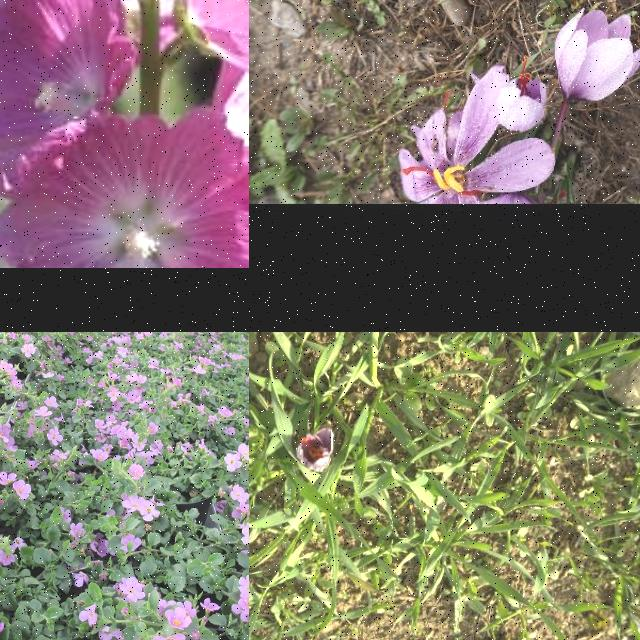flower: (398, 56, 556, 204), (554, 8, 640, 103), (498, 56, 548, 132), (297, 428, 335, 472)
